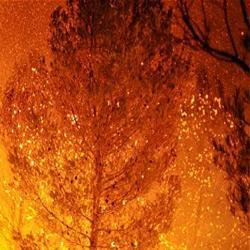fire: (1, 179, 62, 250)
